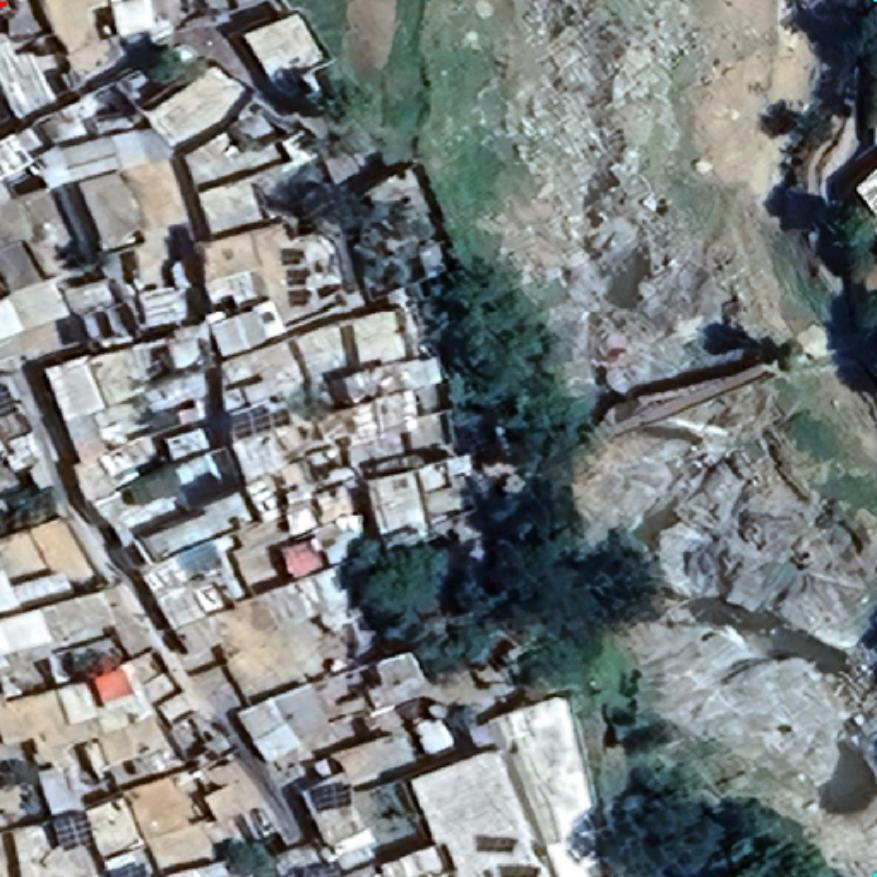Solarpanel: (278, 246, 311, 307), (53, 810, 95, 851), (232, 406, 272, 438), (314, 782, 352, 812), (475, 835, 517, 853), (272, 406, 291, 429)
